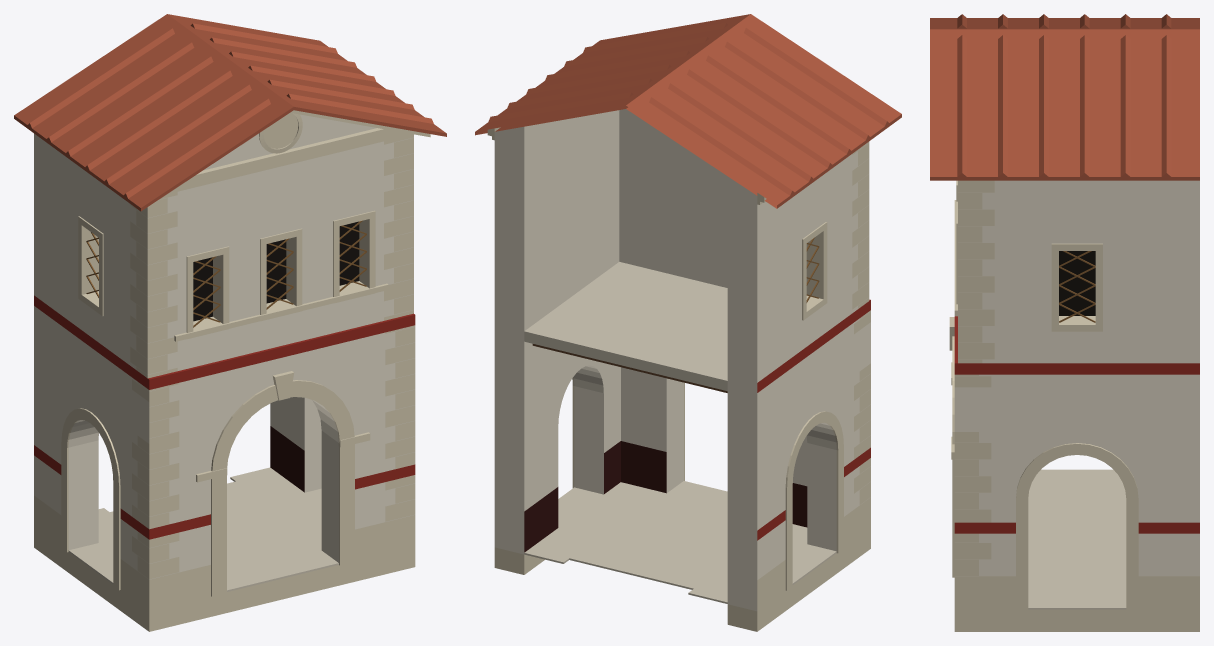
Rendered from rome_tib_gate_s.glb.
3 renders of one model, left to right at view 1: azimuth 30°, elevation 25°; view 2: azimuth 150°, elevation 25°; view 3: azimuth 270°, elevation 25°, orthographic. The views are drawn at different scales.
Visible parts, largest first — view 1: shell, room_S06, interior; view 2: shell, interior, room_S06, room_2S06; view 3: shell, room_S06.
Boxes of the visible parts, left/top/right/bottom form: shell: left=14, top=14, right=446, bottom=631; room_S06: left=68, top=467, right=338, bottom=591; interior: left=270, top=397, right=304, bottom=492; shell: left=475, top=14, right=901, bottom=631; interior: left=494, top=109, right=807, bottom=611; room_S06: left=524, top=481, right=836, bottom=603; room_2S06: left=524, top=262, right=727, bottom=391; shell: left=930, top=14, right=1199, bottom=631; room_S06: left=1028, top=469, right=1126, bottom=609.
Size of the model in its own units: 9.2 by 14.4 by 6.6.
